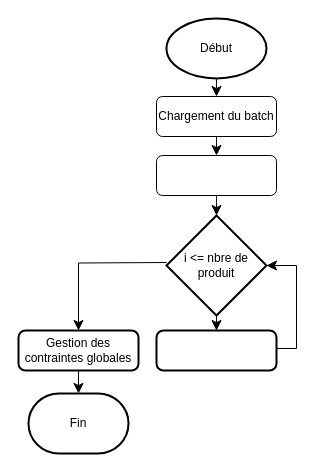
This 324x471 diagram has some shape labels left out. The box of each missing label's shape, as (x1, y1, x2, y2) in pixels:
Chargement du stock: (156, 154, 276, 196)
Optimisation du produit i: (155, 329, 277, 371)
